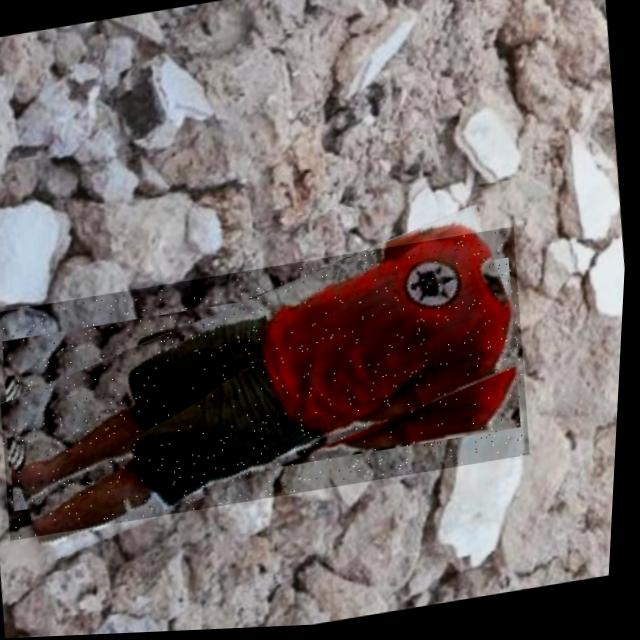Person in Rubble: (0, 230, 542, 542)
